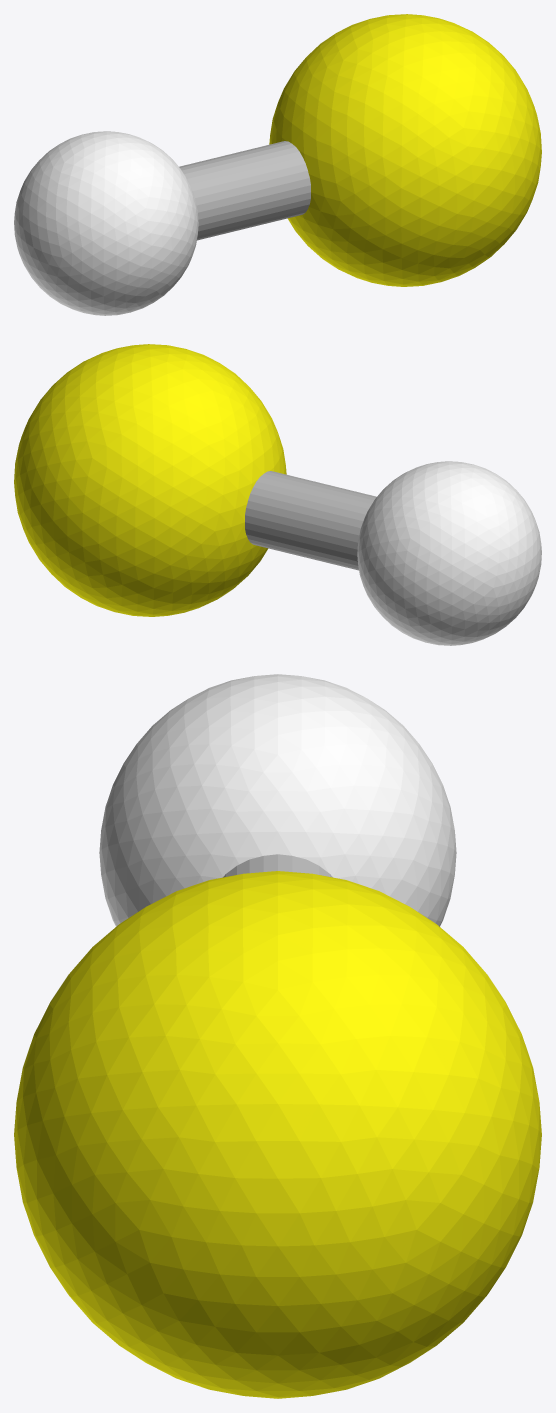
File: hydrogen_fluoride.glb
3 renders of one model, top to bottom at view 1: azimuth 30°, elevation 25°; view 2: azimuth 150°, elevation 25°; view 3: azimuth 270°, elevation 25°, orthographic. The views are drawn at different scales.
Parts seen in each view (by area): view 1: Fluorine_F.001, Hydrogen_H.001, H_F_Bond; view 2: Fluorine_F.001, Hydrogen_H.001, H_F_Bond; view 3: Fluorine_F.001, Hydrogen_H.001, H_F_Bond.
Boxes of the visible parts, bbox=[...] form: Fluorine_F.001: bbox=[269, 14, 541, 286]; Hydrogen_H.001: bbox=[14, 131, 198, 315]; H_F_Bond: bbox=[179, 141, 310, 240]; Fluorine_F.001: bbox=[14, 344, 286, 616]; Hydrogen_H.001: bbox=[357, 461, 541, 645]; H_F_Bond: bbox=[245, 471, 376, 570]; Fluorine_F.001: bbox=[14, 871, 541, 1398]; Hydrogen_H.001: bbox=[99, 674, 456, 926]; H_F_Bond: bbox=[223, 854, 332, 877].
Size of the model in its own units: 1.43 by 0.68 by 0.68.
